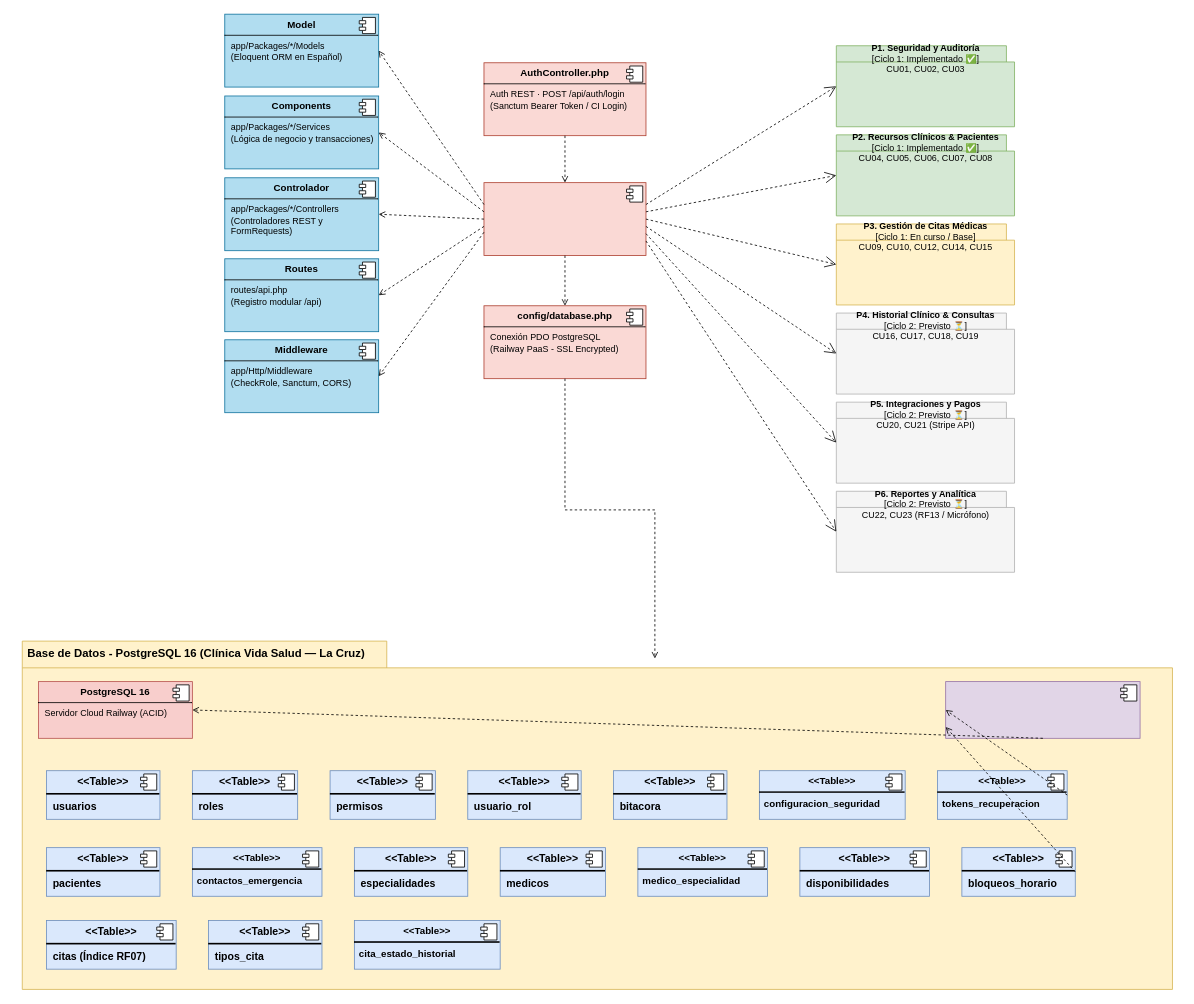
Image size: 1194x1004. Some labels were removed from this diagram. Here are the shapes that lost their labels. From the top down, the centre of each, then its label:
At point (564, 219): "bootstrap/app.php Laravel 13 Application (Routing, Exceptions & Middlewares)".
At point (1042, 709): "<<Script>> php artisan migrate (Laravel Migrations)".
